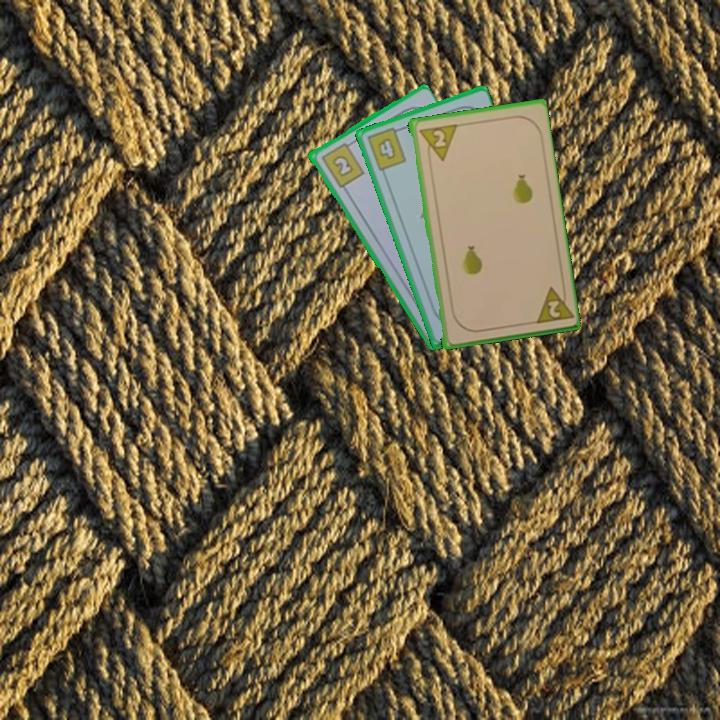2b: (317, 138, 367, 190)
2p: (414, 120, 458, 165), (530, 281, 574, 326)
4b: (363, 124, 409, 174)
